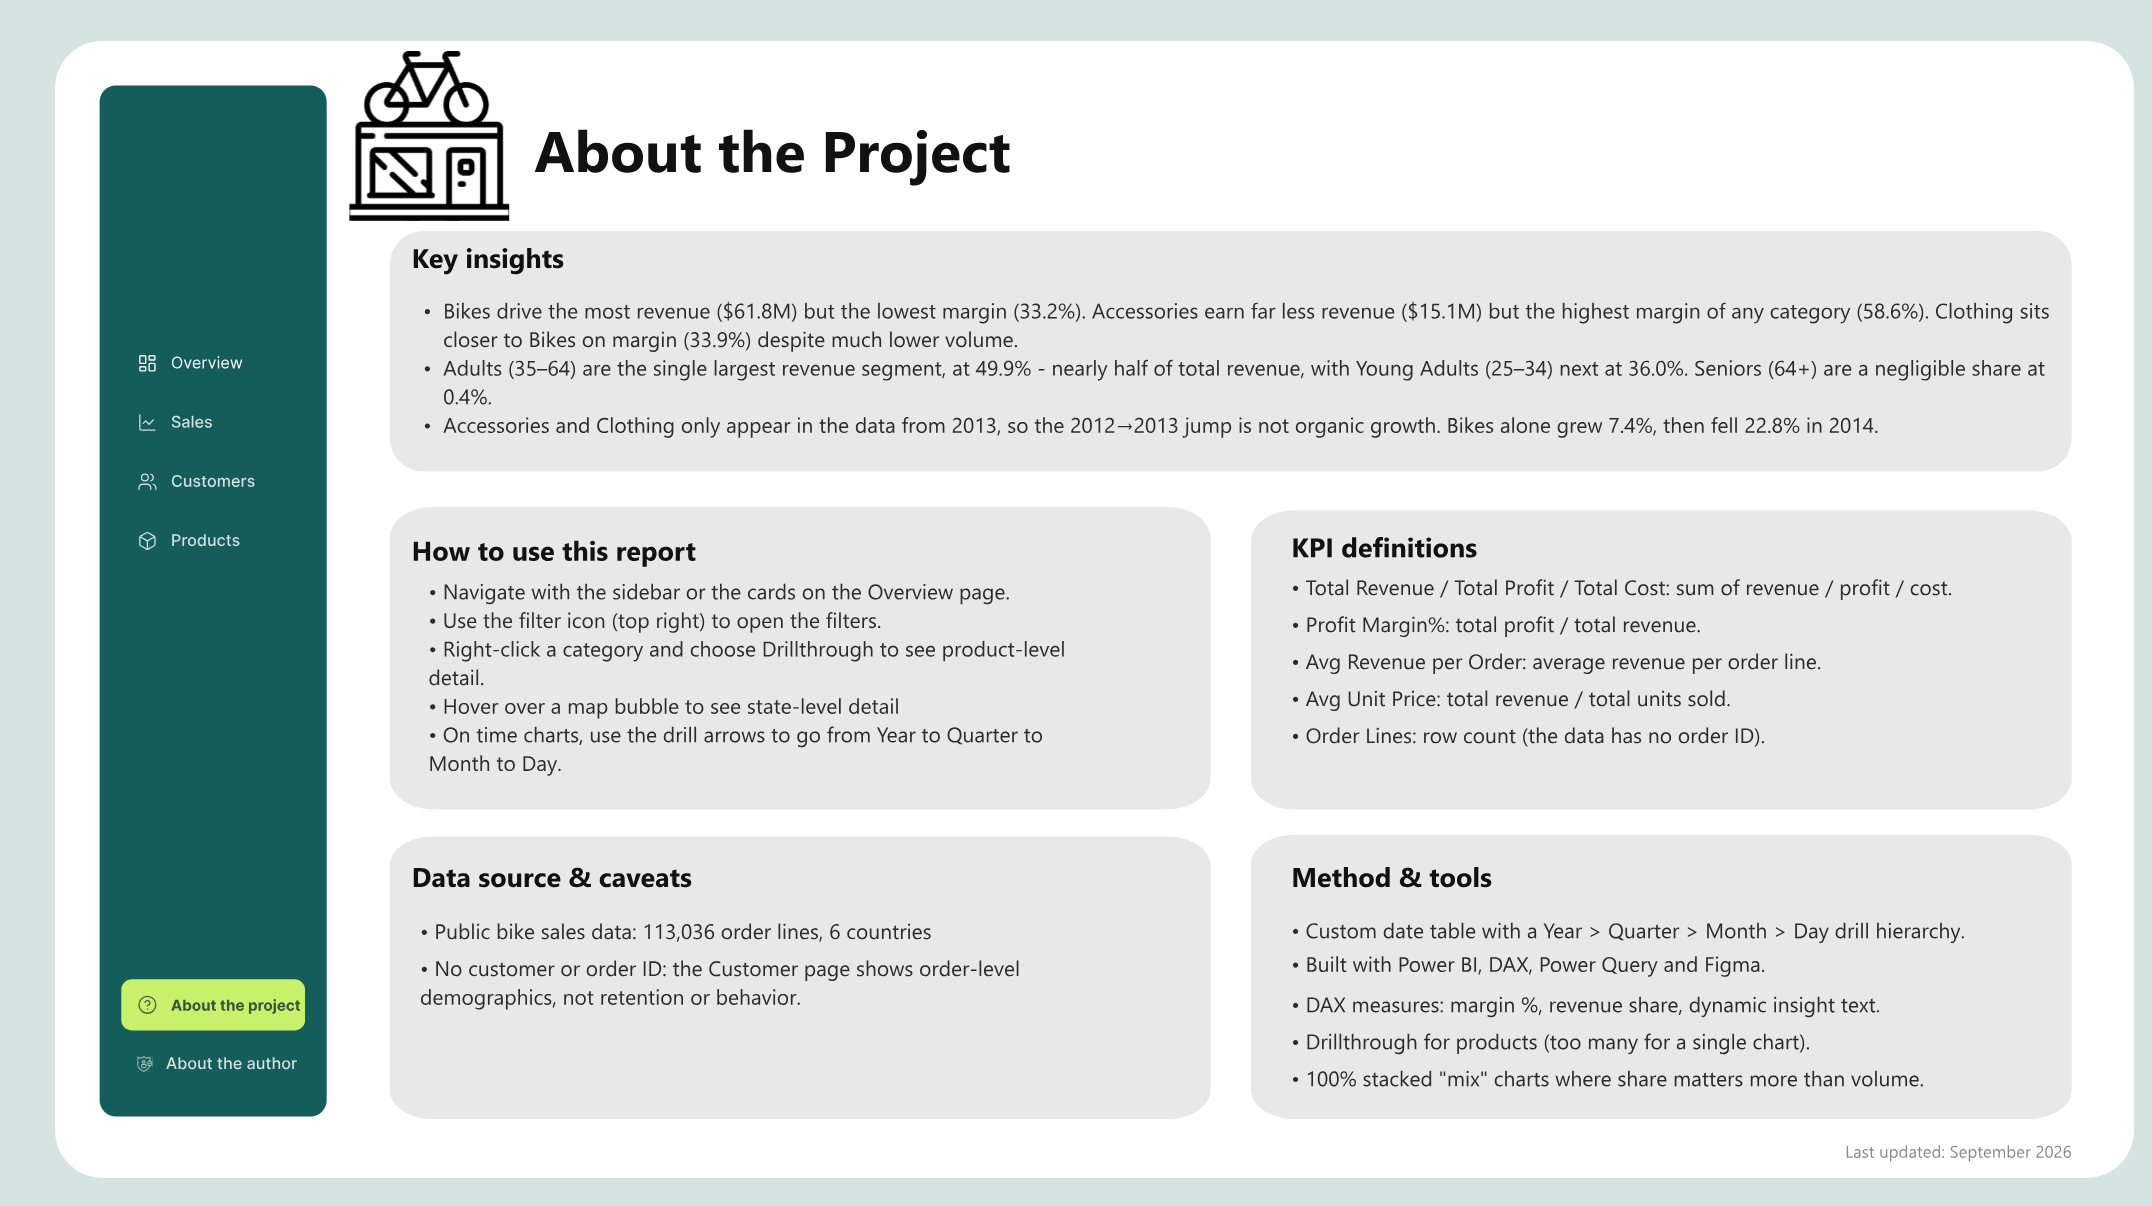

The page's visual inventory and layout, read from the dashboard file:
{"tool":"powerbi","page":{"name":"About_the_project","canvas":[1280,720],"ordinal":6},"visuals":[{"type":"actionButton","title":"Sales Overview","box":[147.5,367.5,50,23.3],"z":0},{"type":"actionButton","title":"Sales Overview","box":[72,276,81.2,21.7],"z":1000},{"type":"actionButton","title":"Sales Overview","box":[75,309,76.2,24.8],"z":2000},{"type":"actionButton","title":"Sales Overview","box":[65.7,620.2,121.4,30.4],"z":3000},{"type":"actionButton","title":"Sales Overview","box":[147.5,937.5,121.7,30],"z":4000},{"type":"shape","box":[72,206,75.6,20.6],"z":5000}]}

Visuals, with their boxes in screenshot pixels (x1, y1, x2, y2), scaled from the page's 1280x720 canvas onto the 2152x1206 screenshot:
"Sales Overview" actionButton: [x1=248, y1=616, x2=332, y2=655]
"Sales Overview" actionButton: [x1=121, y1=462, x2=258, y2=499]
"Sales Overview" actionButton: [x1=126, y1=518, x2=254, y2=559]
"Sales Overview" actionButton: [x1=110, y1=1039, x2=315, y2=1090]
shape: [x1=121, y1=345, x2=248, y2=380]
